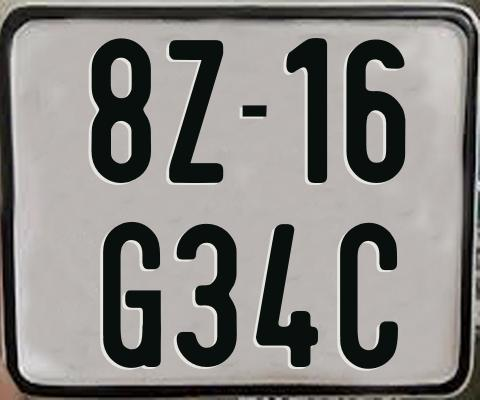1: (284, 38, 325, 186)
3: (174, 221, 235, 368)
4: (254, 223, 317, 372)
6: (344, 36, 407, 185)
8: (91, 35, 157, 180)
C: (340, 223, 399, 369)
G: (102, 219, 164, 369)
Z: (166, 38, 224, 182)
